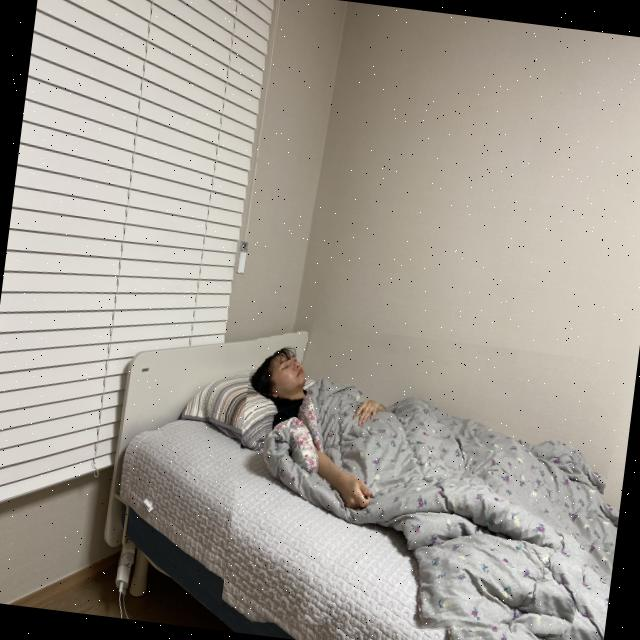people: (218, 317, 637, 640)
